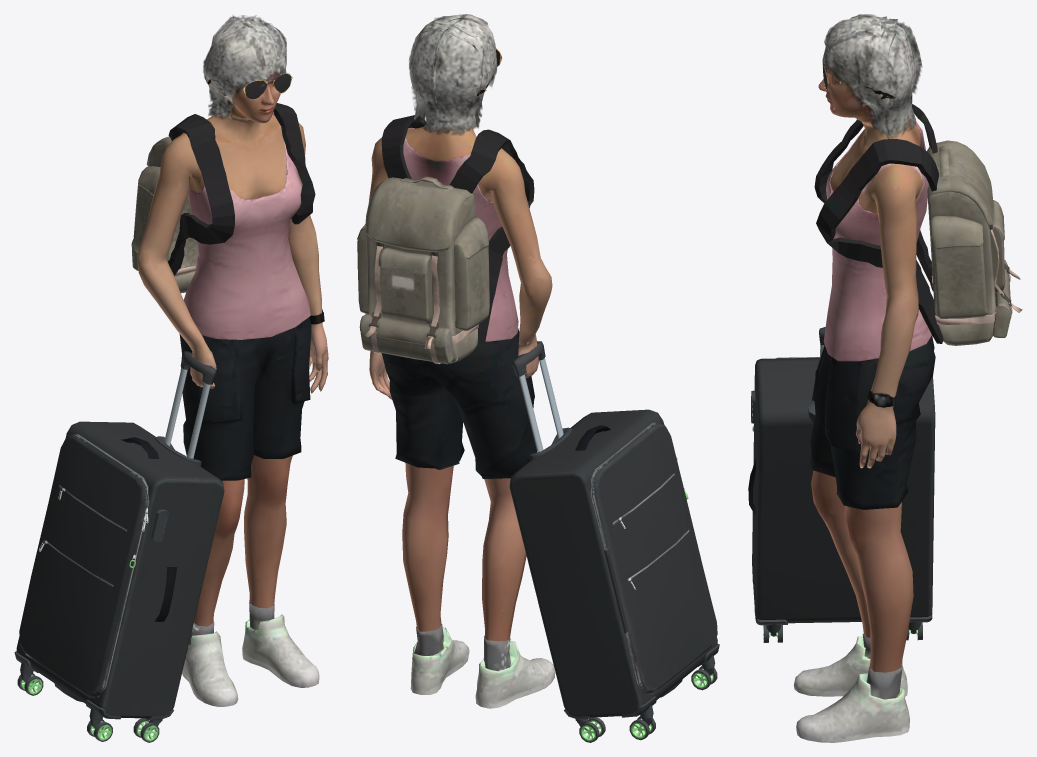
3 renders of one model, left to right at view 1: azimuth 30°, elevation 25°; view 2: azimuth 150°, elevation 25°; view 3: azimuth 270°, elevation 25°, orthographic. The views are drawn at different scales.
Parts seen in each view (by area): view 1: suitcase202610_w006, suitcase202610_w006_props; view 2: suitcase202610_w006, suitcase202610_w006_props; view 3: suitcase202610_w006, suitcase202610_w006_props.
Part boxes in pixels (x1,y1,x2,y2): suitcase202610_w006: (131,15,328,706); suitcase202610_w006_props: (14,351,224,742); suitcase202610_w006: (357,14,555,708); suitcase202610_w006_props: (509,341,719,742); suitcase202610_w006: (793,14,1022,742); suitcase202610_w006_props: (748,327,935,642).
Size of the model in its own units: 0.7013 by 1.51 by 0.5337.
2 materials, 2 textured.
